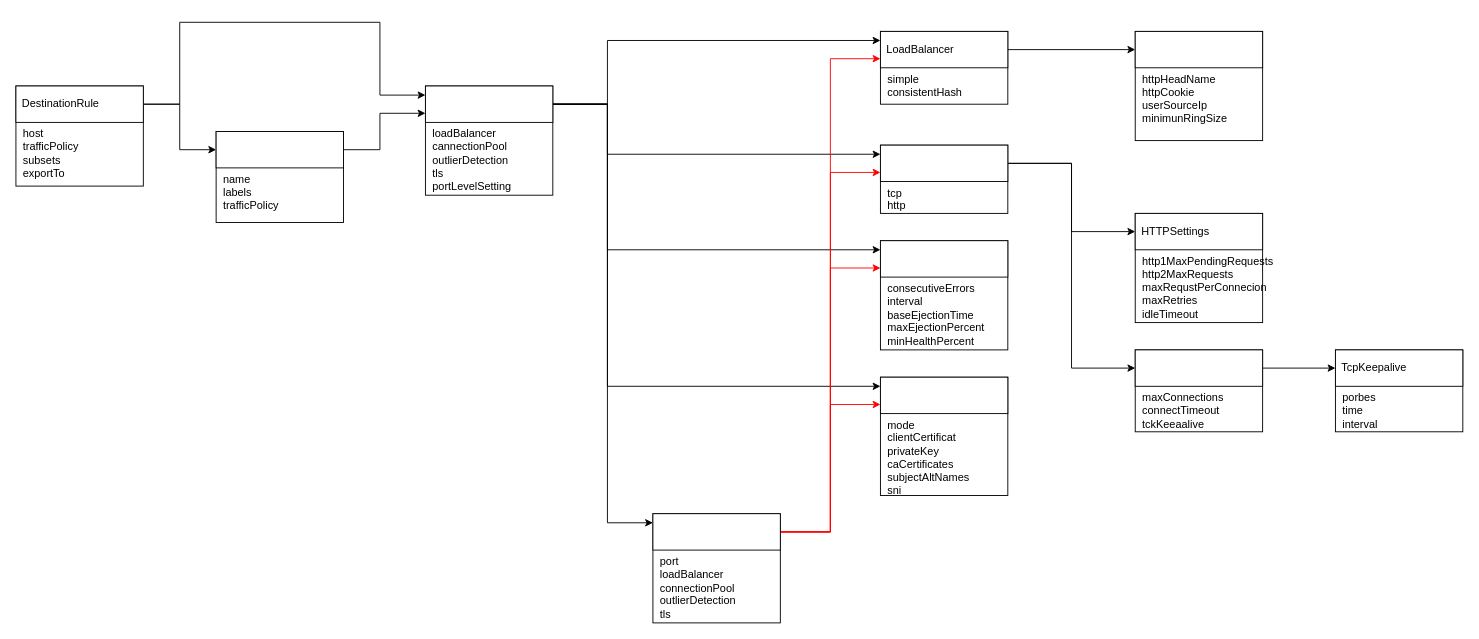
Image size: 1479x639. Some labels were removed from this diagram. Here are the shapes that lost their labels. From the top down, the centre of each, then its label:
point (1198, 49): ConsistenHashLB
point (489, 103): TrafficPolicy
point (279, 149): Subset
point (944, 163): ConnectionPoolSettings
point (944, 258): OutlinerDetection
point (1198, 367): TCPSettings
point (944, 395): TLSSettings
point (716, 531): PortTrafficPolicy
